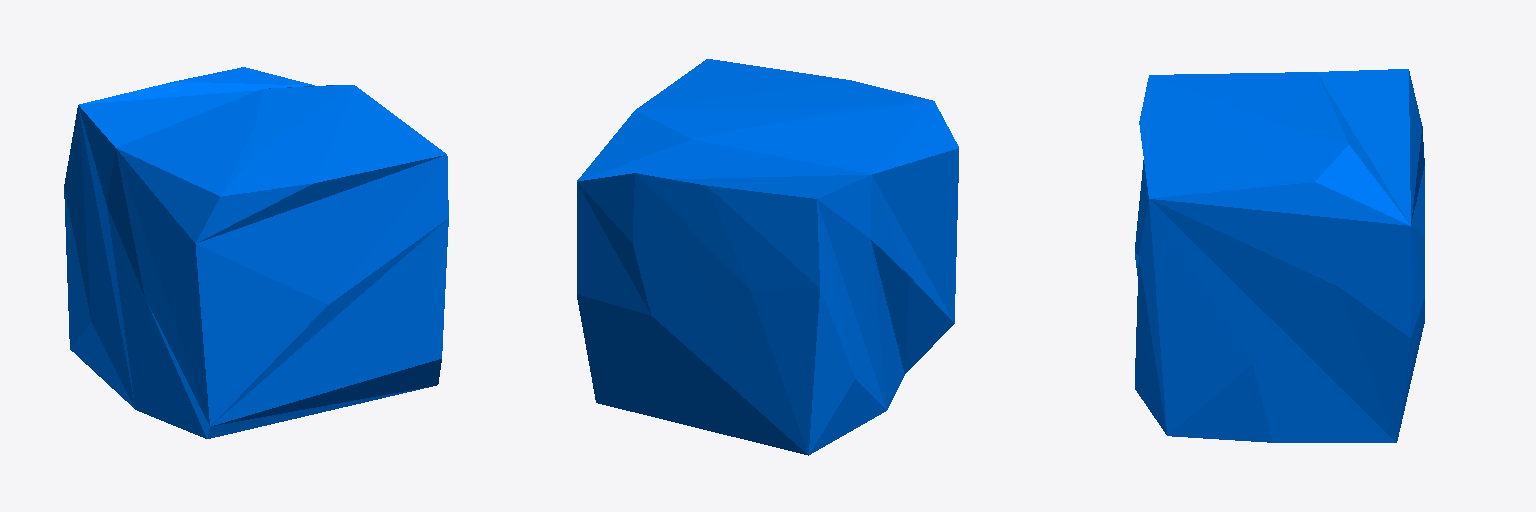
Rendered from jmBlueDice.obj.
3 renders of one model, left to right at view 1: azimuth 30°, elevation 25°; view 2: azimuth 150°, elevation 25°; view 3: azimuth 270°, elevation 25°, orthographic.
Size of the model in its own units: 10 by 10 by 10.